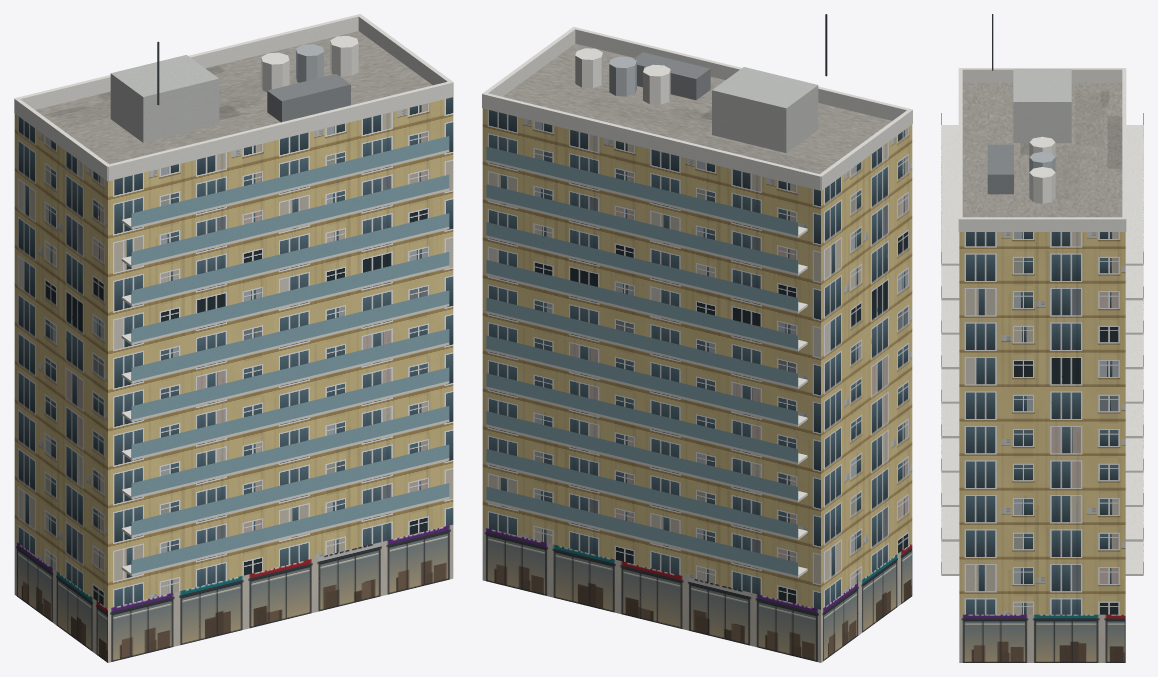
File: OW_CaoOc_TT_ChungCu_40.fbx
3 views of the same model, side by side, from view 1: azimuth 30°, elevation 25°; view 2: azimuth 150°, elevation 25°; view 3: azimuth 270°, elevation 25° (orthographic). The views are drawn at different scales.
Visible parts, largest first — view 1: OW_CaoOc_TT_ChungCu_40_LOD0; view 2: OW_CaoOc_TT_ChungCu_40_LOD0; view 3: OW_CaoOc_TT_ChungCu_40_LOD0.
Part boxes in pixels (x1,y1,x2,y2): OW_CaoOc_TT_ChungCu_40_LOD0: (14, 14, 453, 662); OW_CaoOc_TT_ChungCu_40_LOD0: (482, 14, 912, 662); OW_CaoOc_TT_ChungCu_40_LOD0: (941, 14, 1143, 662).
Size of what is drawn, in the model's own units: 30.1 by 49 by 17.
